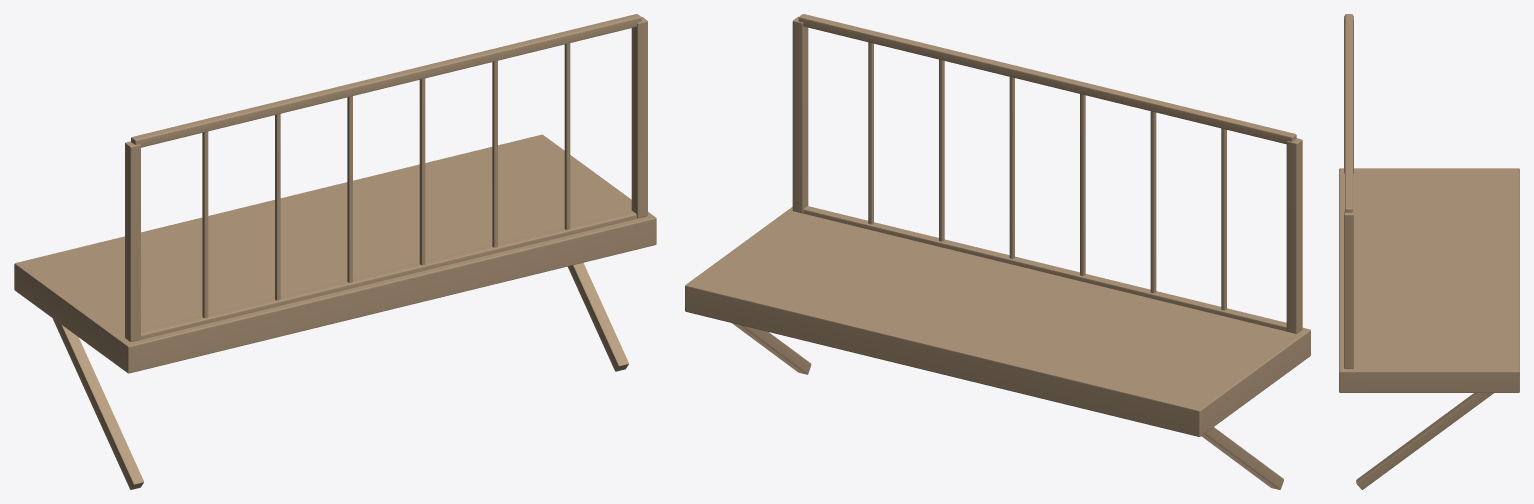
Rendered from balcony_railing.glb.
3 renders of one model, left to right at view 1: azimuth 30°, elevation 25°; view 2: azimuth 150°, elevation 25°; view 3: azimuth 270°, elevation 25°, orthographic. The views are drawn at different scales.
Parts seen in each view (by area): view 1: balcony_railing; view 2: balcony_railing; view 3: balcony_railing.
Boxes of the visible parts, x1,y1,x2,y2 form: balcony_railing: (14,14,656,489); balcony_railing: (685,14,1310,489); balcony_railing: (1339,14,1519,489).
Bounding box in the file's own units: 2.4 × 1.56 × 0.9.
